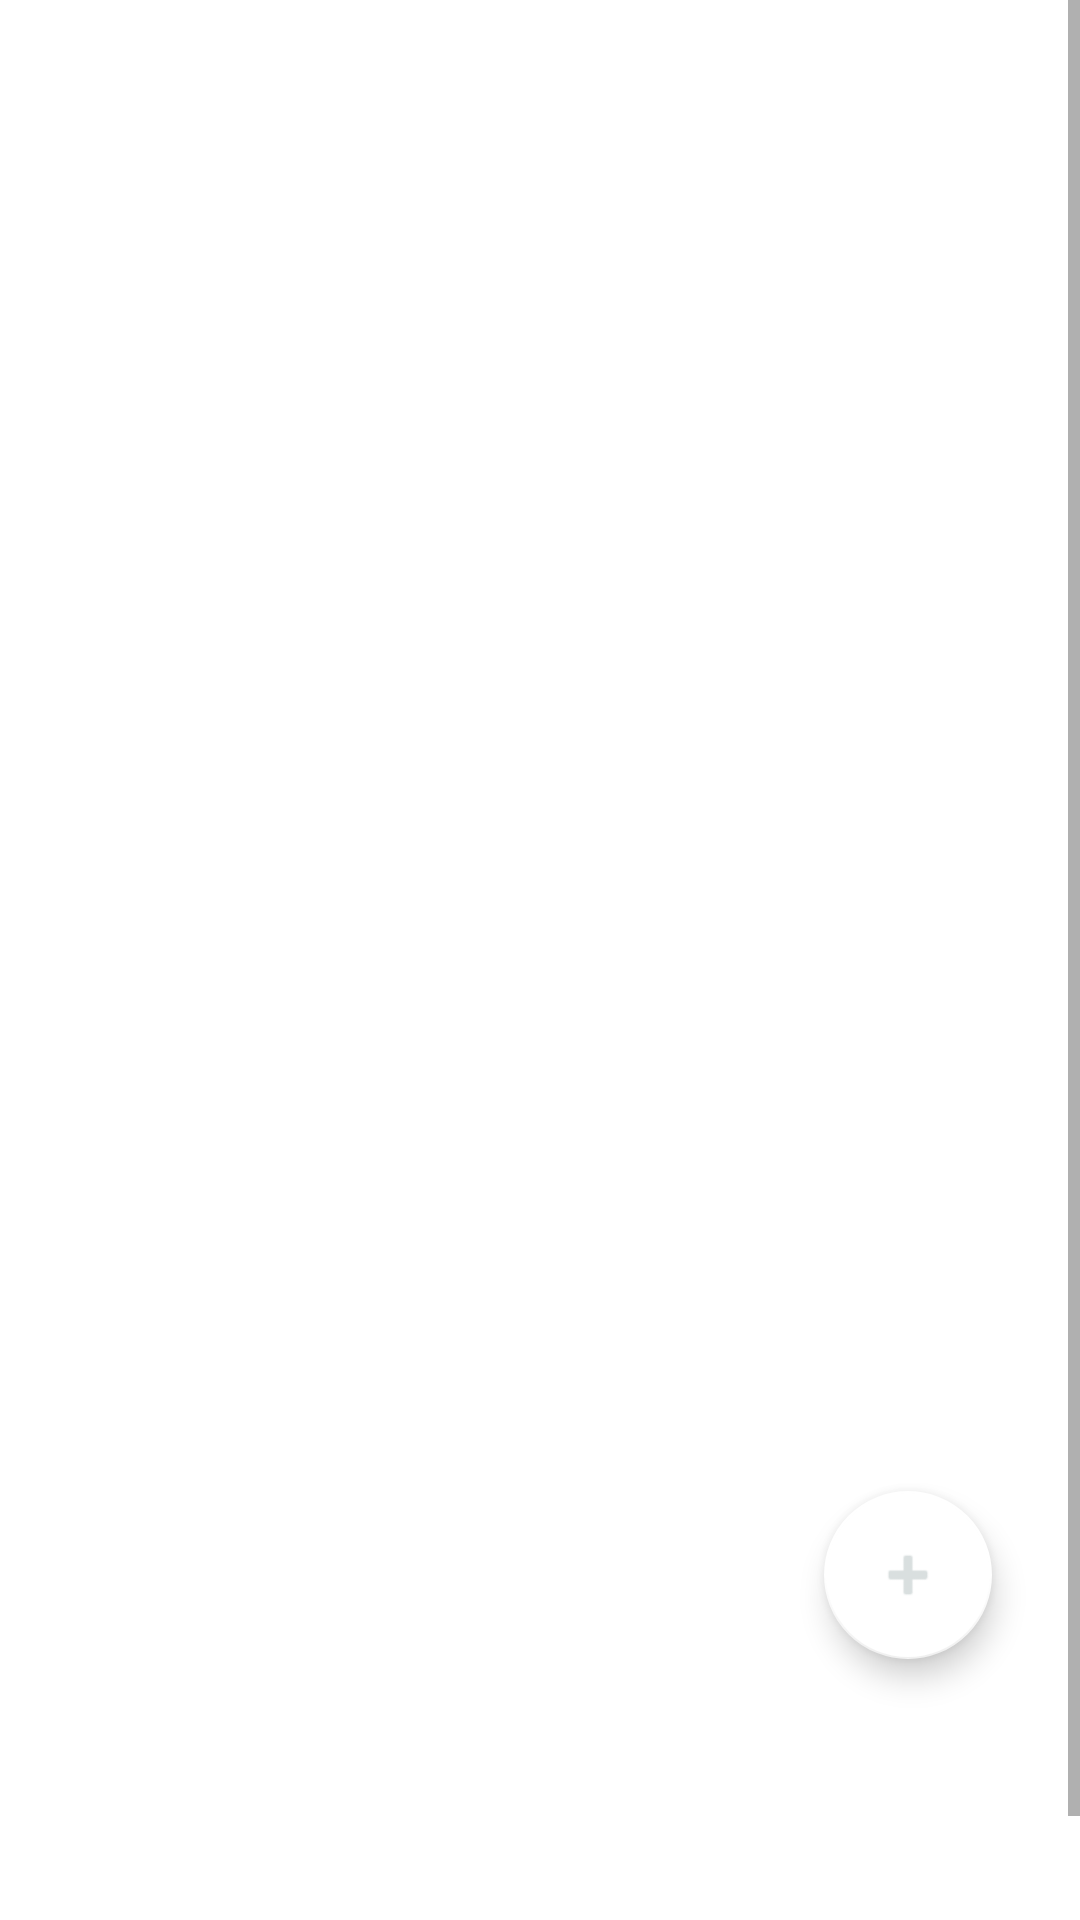

Screen size 1080w x 1920h. Icon name, then its center in pixels as [x,y]:
add: [910,1607]
